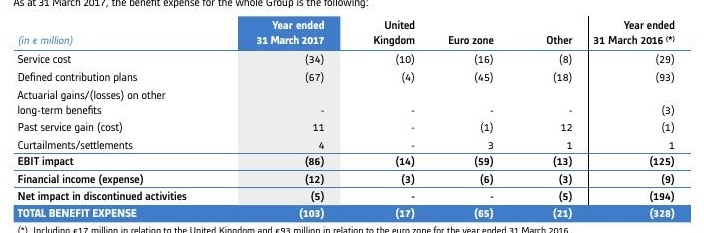table: (0, 0, 704, 233)
